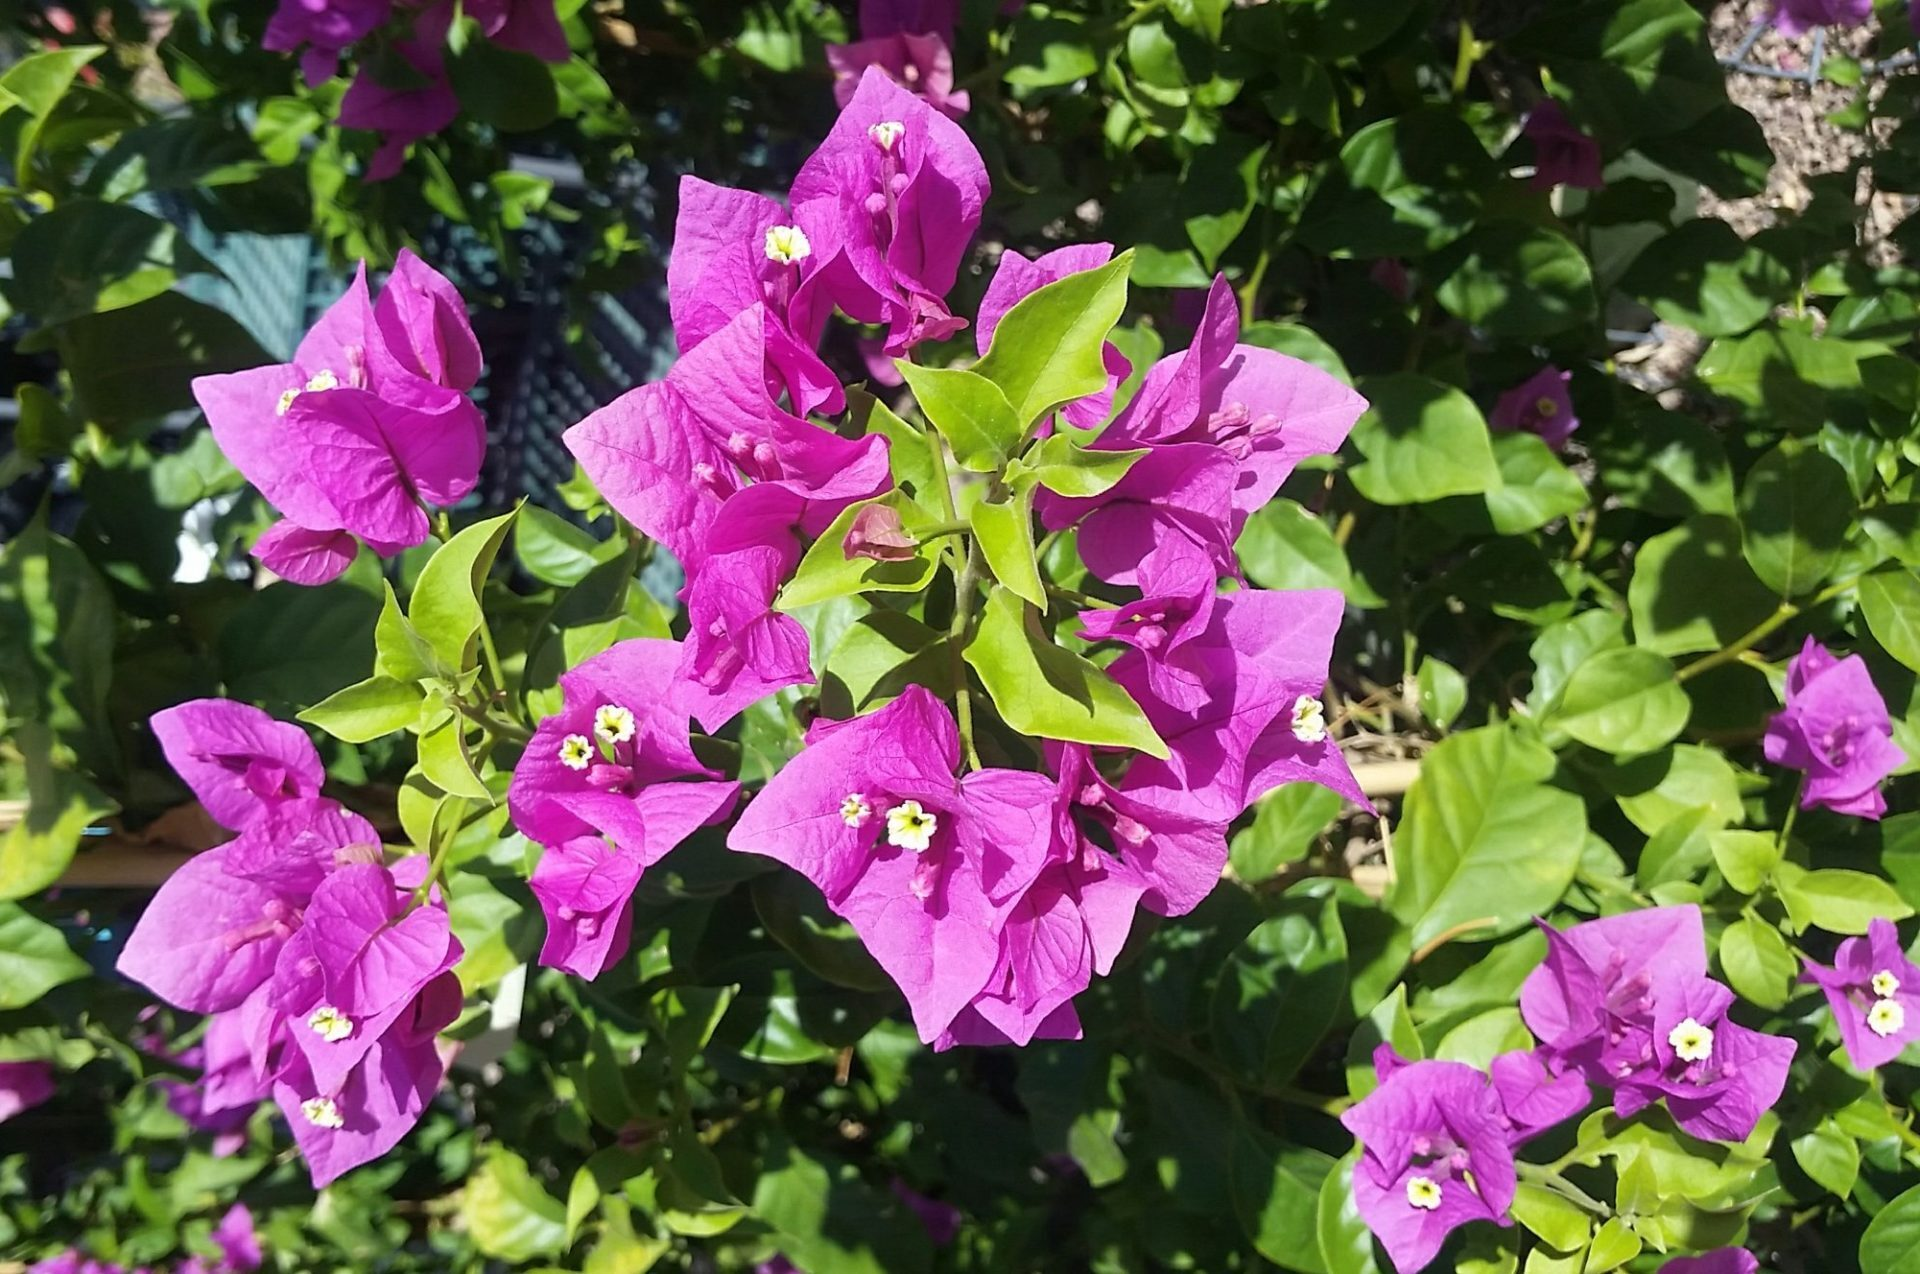bougainvillea: (748, 712, 1032, 1027), (571, 313, 888, 567), (202, 263, 480, 549), (509, 646, 725, 948), (779, 80, 969, 334), (1171, 591, 1359, 820), (1361, 1065, 1516, 1271), (1607, 977, 1794, 1137), (1775, 648, 1897, 828), (1829, 931, 1919, 1079)
